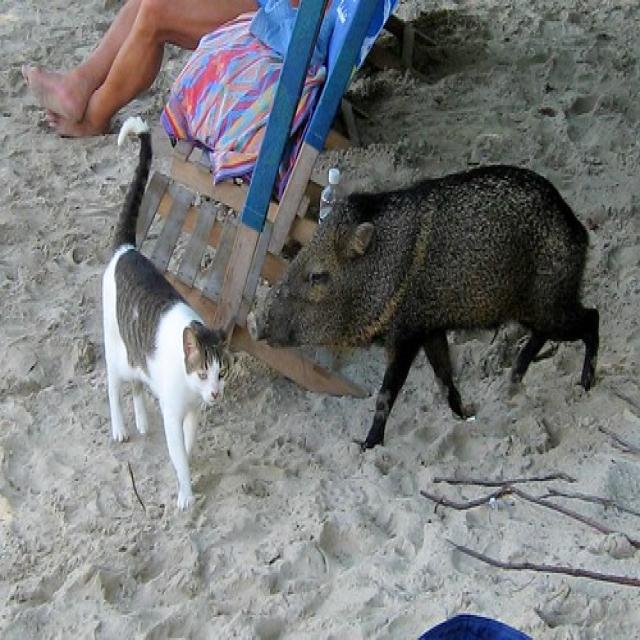boar: (242, 158, 614, 490)
